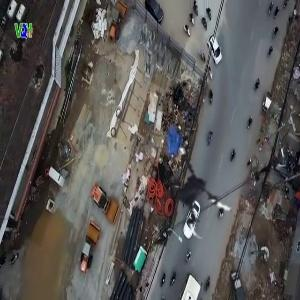drone: (152, 144, 251, 243)
